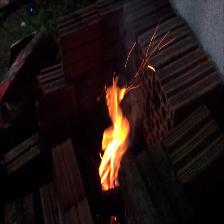fire: (90, 68, 149, 198)
